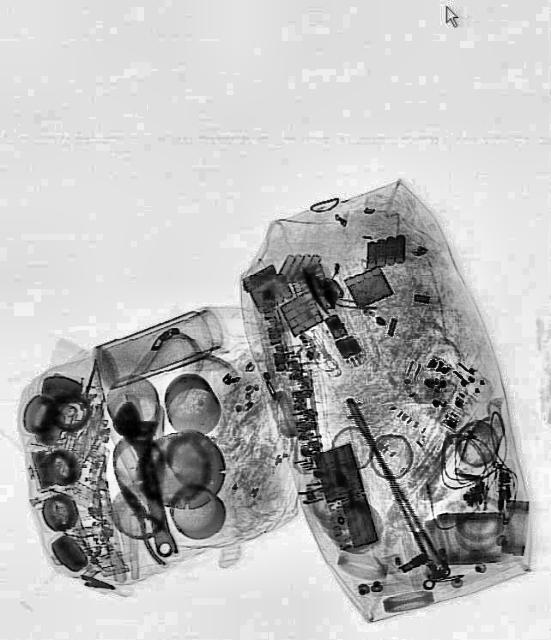Pliers: (114, 478, 180, 566)
Wrench: (108, 396, 186, 562)
